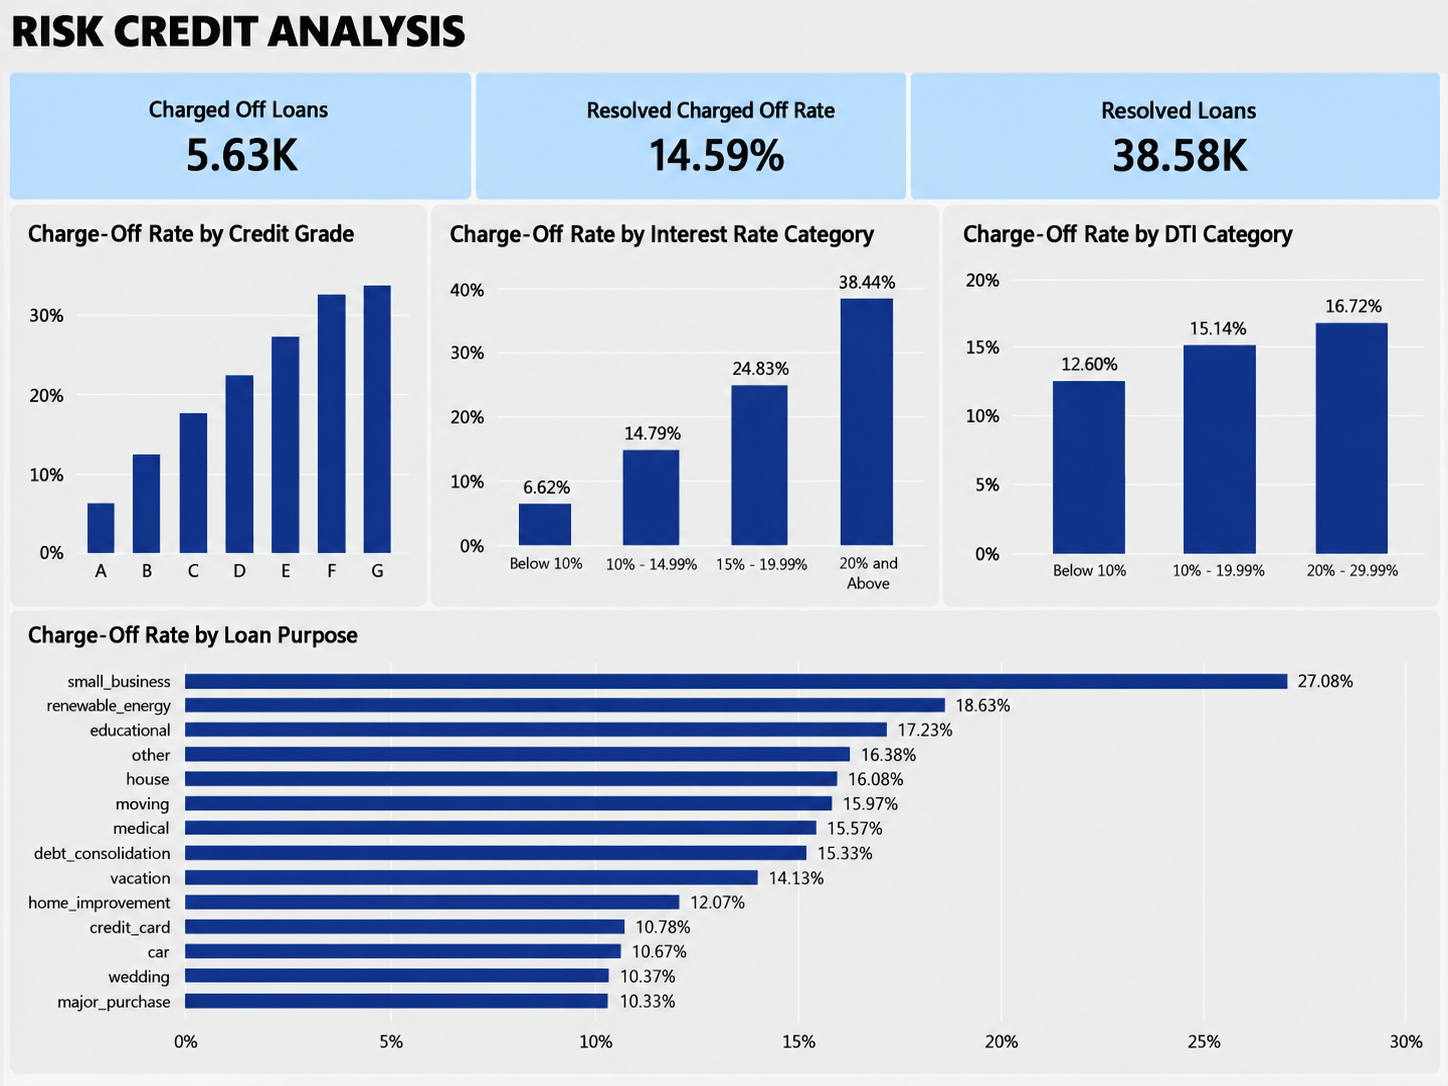

This screenshot's page, from the dashboard's own definition file:
{"tool":"powerbi","page":{"name":"Risk Credit Analysis","canvas":[1920,1080],"ordinal":1},"visuals":[{"type":"clusteredColumnChart","title":"Charge-Off Rate by Credit Grade","fields":{"Category":["loan.grade"],"Y":["loan.Resolved Charged Off Rate"]},"box":[0,174.3,317,333],"z":0},{"type":"clusteredColumnChart","title":"Charge-Off Rate by Interest Rate Category","fields":{"Category":["loan.Interest Rate Category"],"Y":["loan.Resolved Charged Off Rate"]},"box":[317.1,175.7,444,333],"z":1000},{"type":"clusteredColumnChart","title":"Charge-Off Rate by DTI Category","fields":{"Category":["loan.DTI Category"],"Y":["loan.Resolved Charged Off Rate"]},"box":[761.4,175.7,444,333],"z":2000},{"type":"clusteredBarChart","title":"Charge-Off Rate by Loan Purpose","fields":{"Category":["loan.purpose"],"Y":["loan.Resolved Charged Off Rate"]},"box":[0,507.1,1205.7,407.1],"z":3000},{"type":"cardVisual","fields":{"Data":["loan.Resolved Loans"]},"box":[710,58.6,495.7,115.7],"z":4000},{"type":"cardVisual","fields":{"Data":["loan.Charged Off Loans"]},"box":[0,58.6,368.6,115.7],"z":5000},{"type":"cardVisual","fields":{"Data":["loan.Resolved Charged Off Rate"]},"box":[368.6,58.6,341.4,115.7],"z":6000},{"type":"textbox","box":[0,0,1205.7,60],"z":6001}]}

Visuals, with their boxes on the page's 1920x1080 design canvas (x1, y1, x2, y2). These are canvas units, not pixel positions in the 1448x1086 screenshot, which may show the page scaled, cropped or inside an application window:
"Charge-Off Rate by Credit Grade" clusteredColumnChart: bbox=[0, 174, 317, 507]
"Charge-Off Rate by Interest Rate Category" clusteredColumnChart: bbox=[317, 176, 761, 509]
"Charge-Off Rate by DTI Category" clusteredColumnChart: bbox=[761, 176, 1205, 509]
"Charge-Off Rate by Loan Purpose" clusteredBarChart: bbox=[0, 507, 1206, 914]
cardVisual - loan.Resolved Loans: bbox=[710, 59, 1206, 174]
cardVisual - loan.Charged Off Loans: bbox=[0, 59, 369, 174]
cardVisual - loan.Resolved Charged Off Rate: bbox=[369, 59, 710, 174]
textbox: bbox=[0, 0, 1206, 60]
